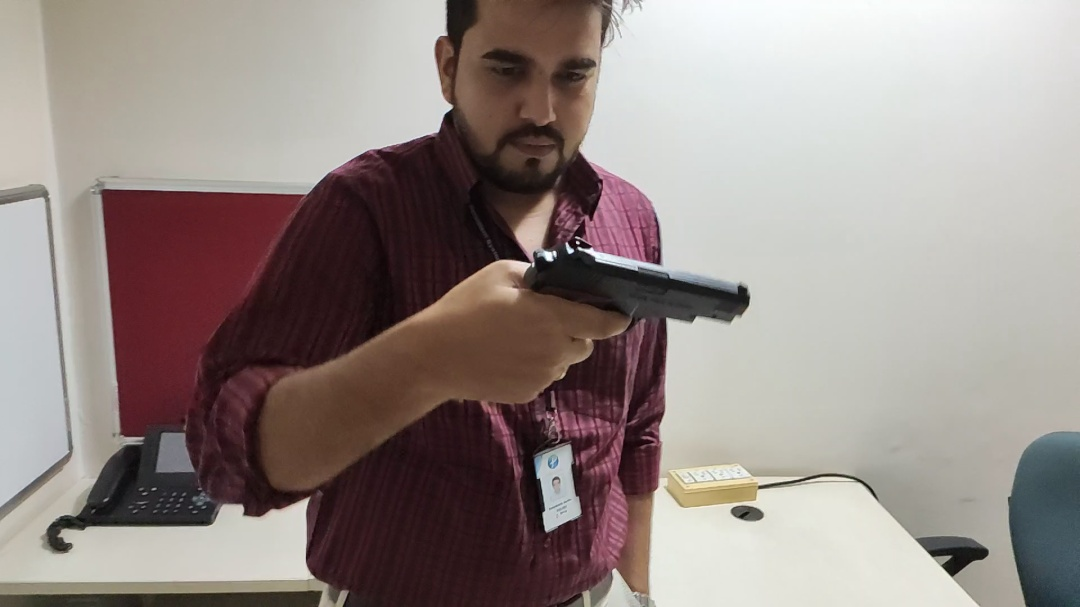gun: (466, 238, 769, 360)
